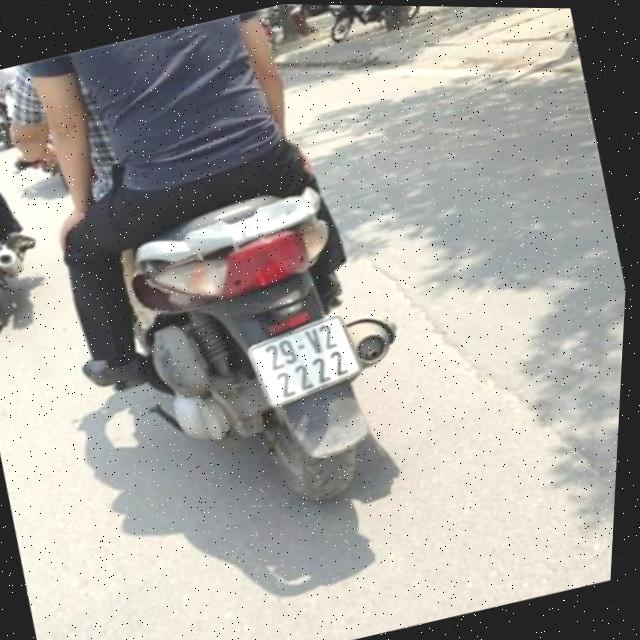motorcycle: (66, 91, 440, 566)
plate: (235, 303, 371, 415)
